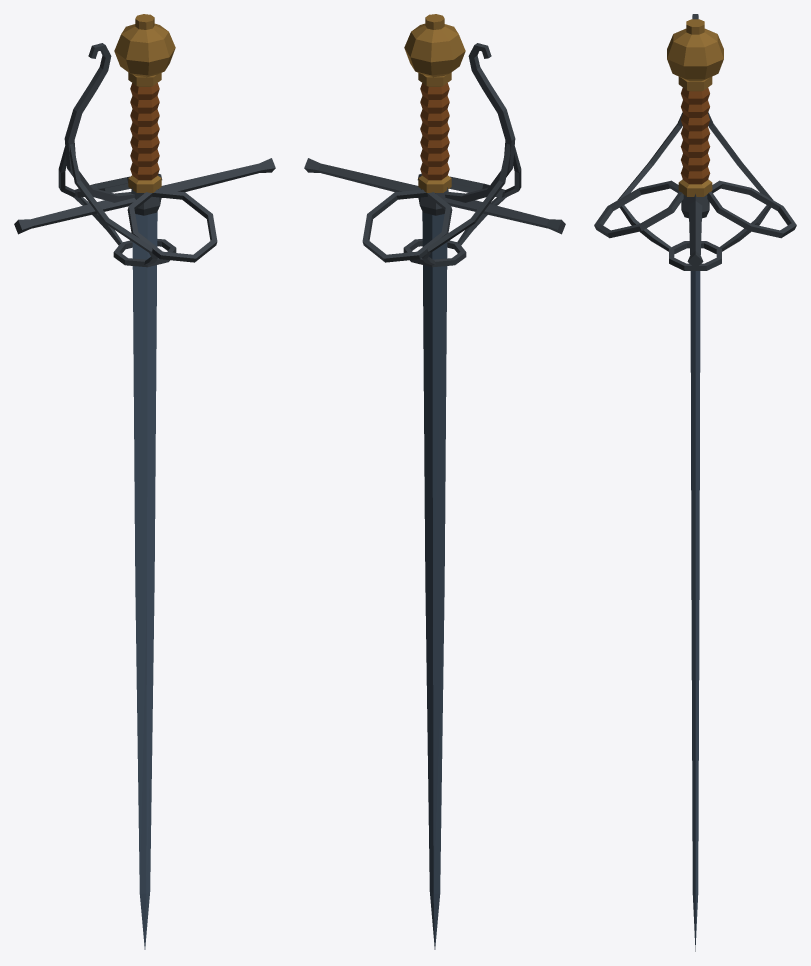
File: rapier-d0c268.glb
3 views of the same model, side by side, from view 1: azimuth 30°, elevation 25°; view 2: azimuth 150°, elevation 25°; view 3: azimuth 270°, elevation 25° (orthographic).
Visible parts, largest first — view 1: rapier-body; view 2: rapier-body; view 3: rapier-body.
Boxes of the visible parts, box(x1,y1,x2,y2) form: rapier-body: box(14, 14, 275, 949); rapier-body: box(304, 14, 565, 949); rapier-body: box(594, 14, 796, 951).
Bounding box in the file's own units: 0.34 × 1.2 × 0.2368.
